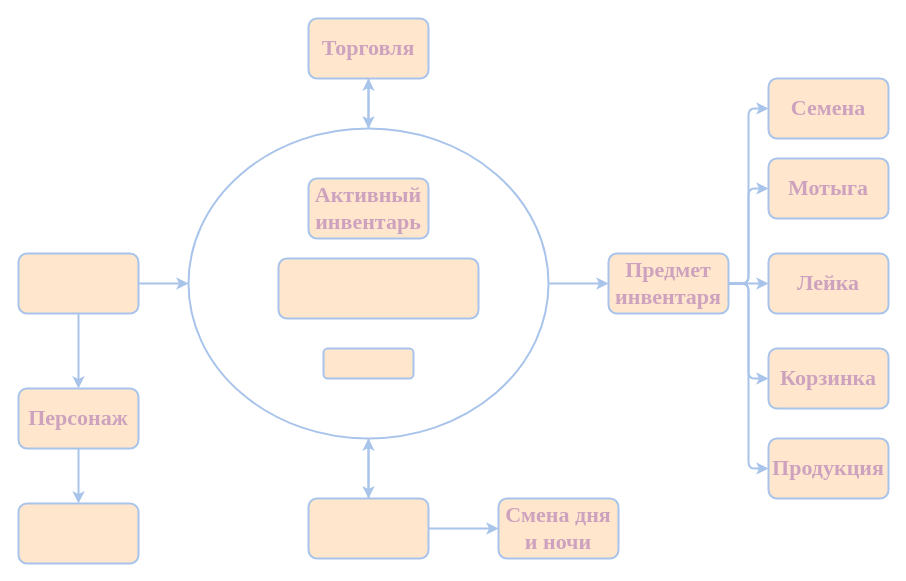
Image size: 906x581. Some labels were removed from this diagram. The shapes that lost their labels are listed below. From the top down, each one's centre as x and y in pixels, then its label:
pixel 78 283: Игрок
pixel 378 288: Вспомогательный инвентарь
pixel 368 363: Сундук
pixel 78 533: Чат
pixel 368 528: Территория
